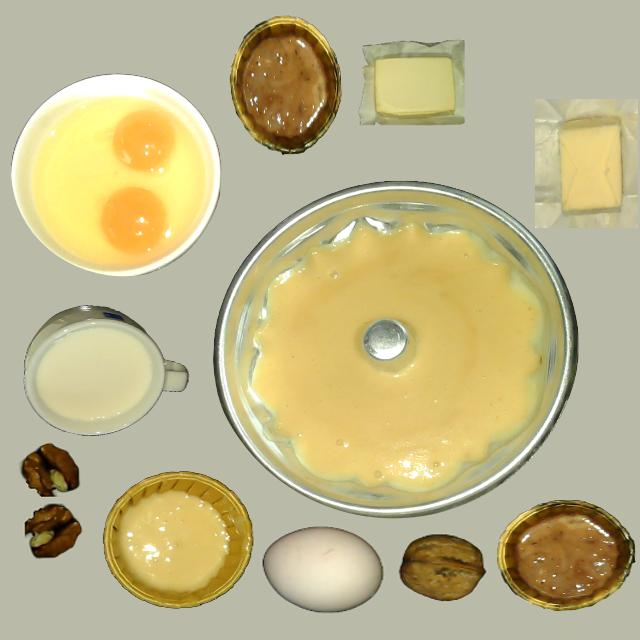Egg: (100, 188, 167, 252), (114, 110, 176, 172)
Milk: (38, 329, 151, 422)
Walnut: (399, 535, 485, 601)
